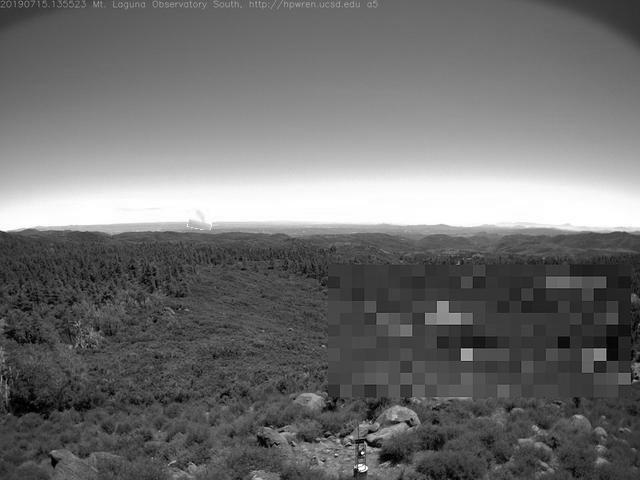smoke: (189, 207, 214, 231)
